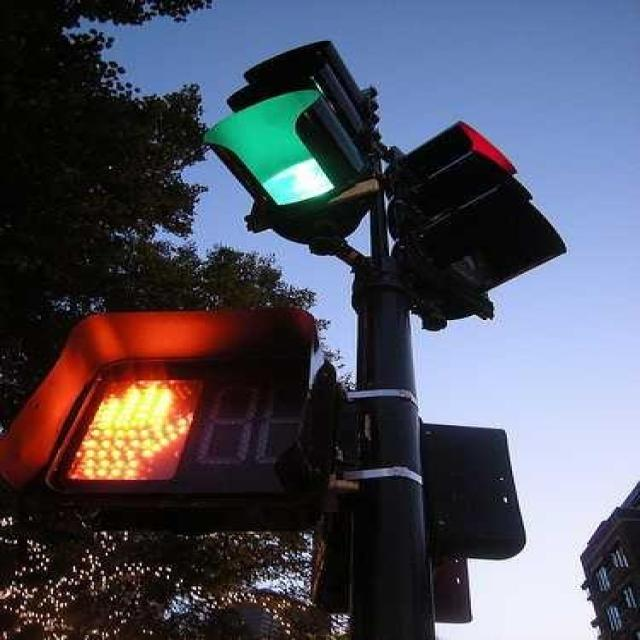Traffic Light -Green-: (200, 31, 390, 247)
Traffic Light -Red-: (397, 117, 569, 330)
